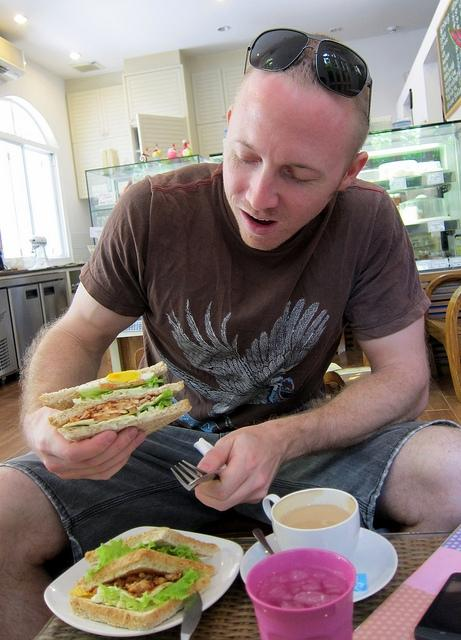lettuce: (85, 538, 202, 582), (90, 582, 154, 611), (122, 388, 173, 416), (75, 388, 114, 399)
